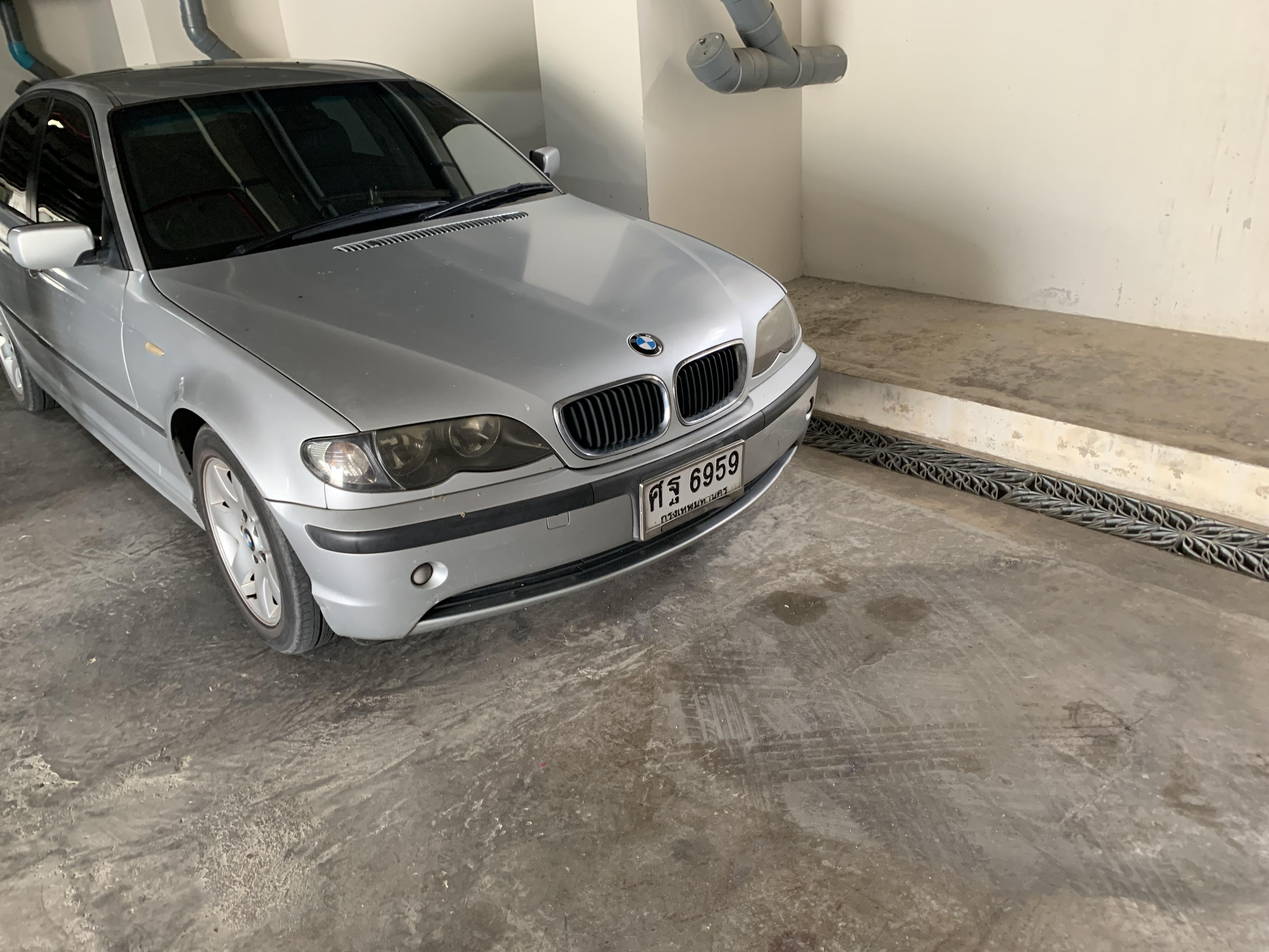license-plate: (635, 436, 751, 543)
